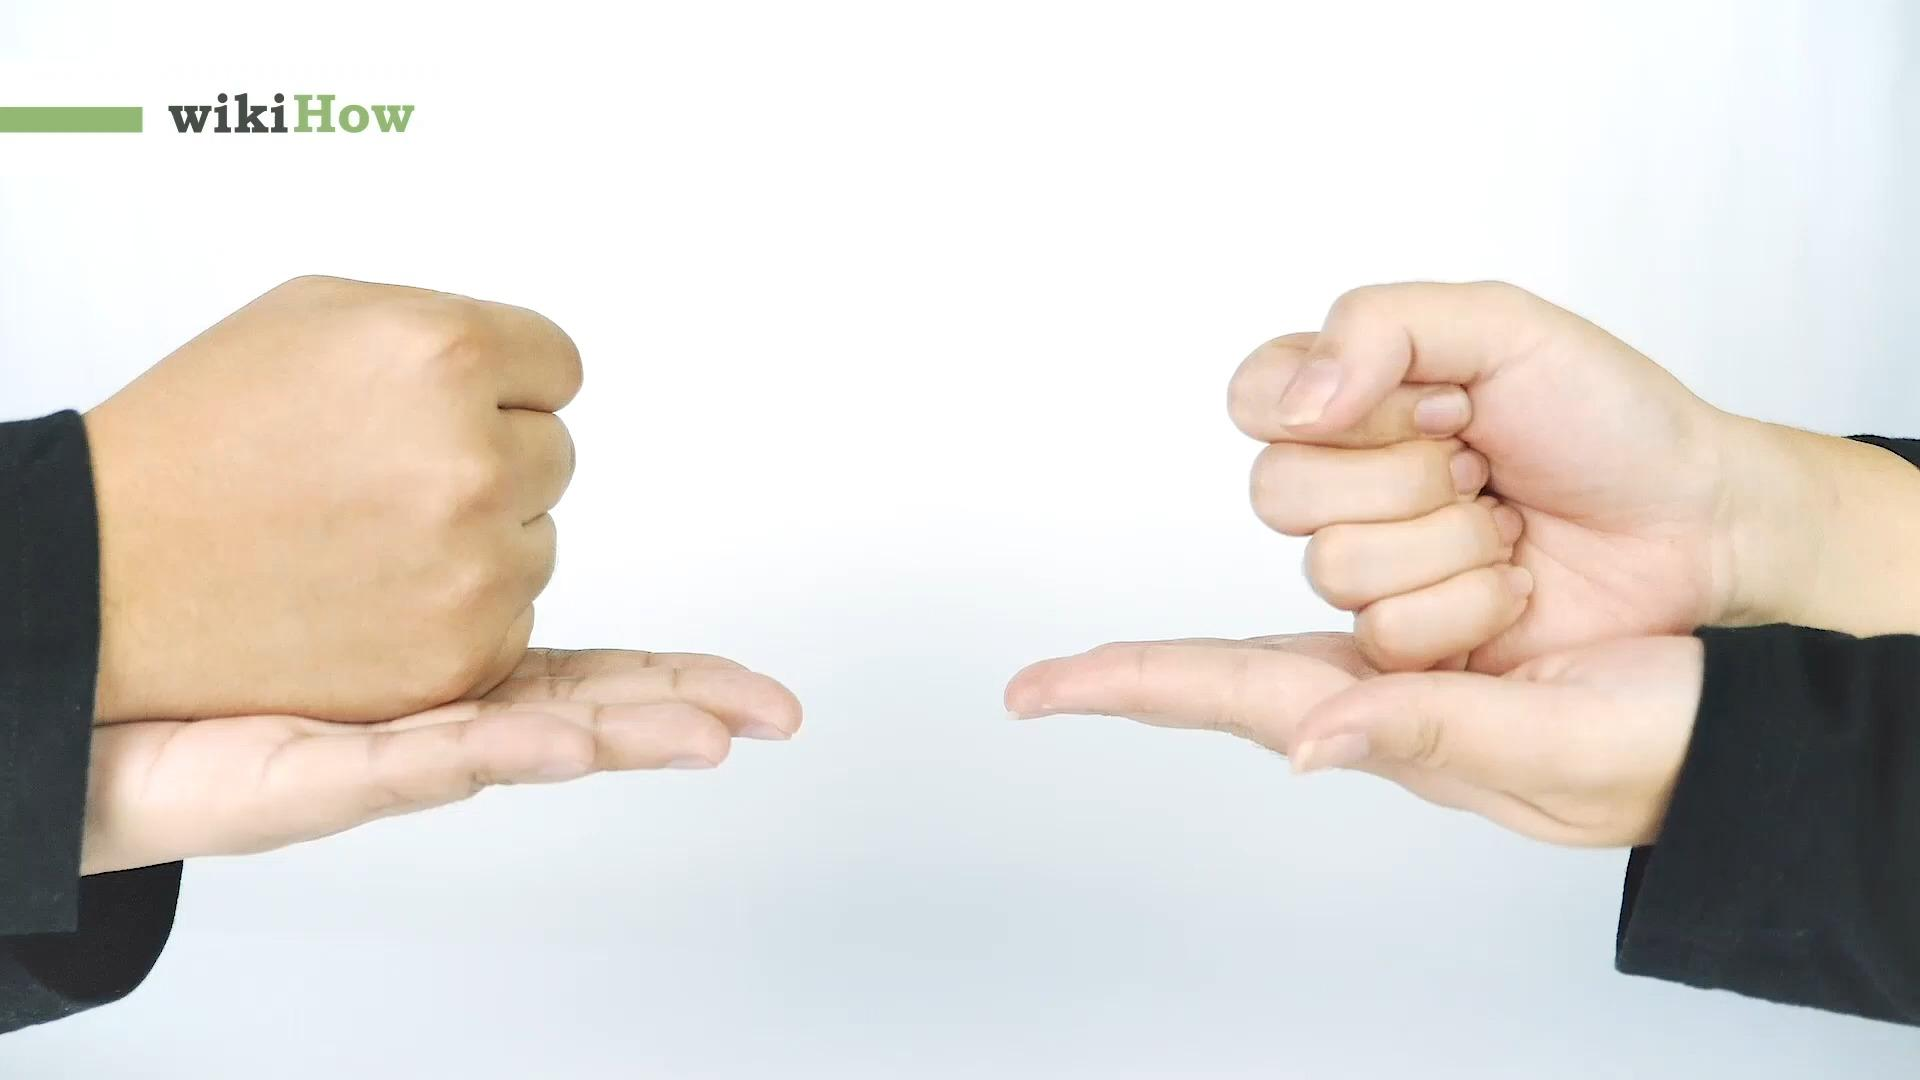Rock: (90, 268, 587, 720), (1228, 270, 1742, 674)
